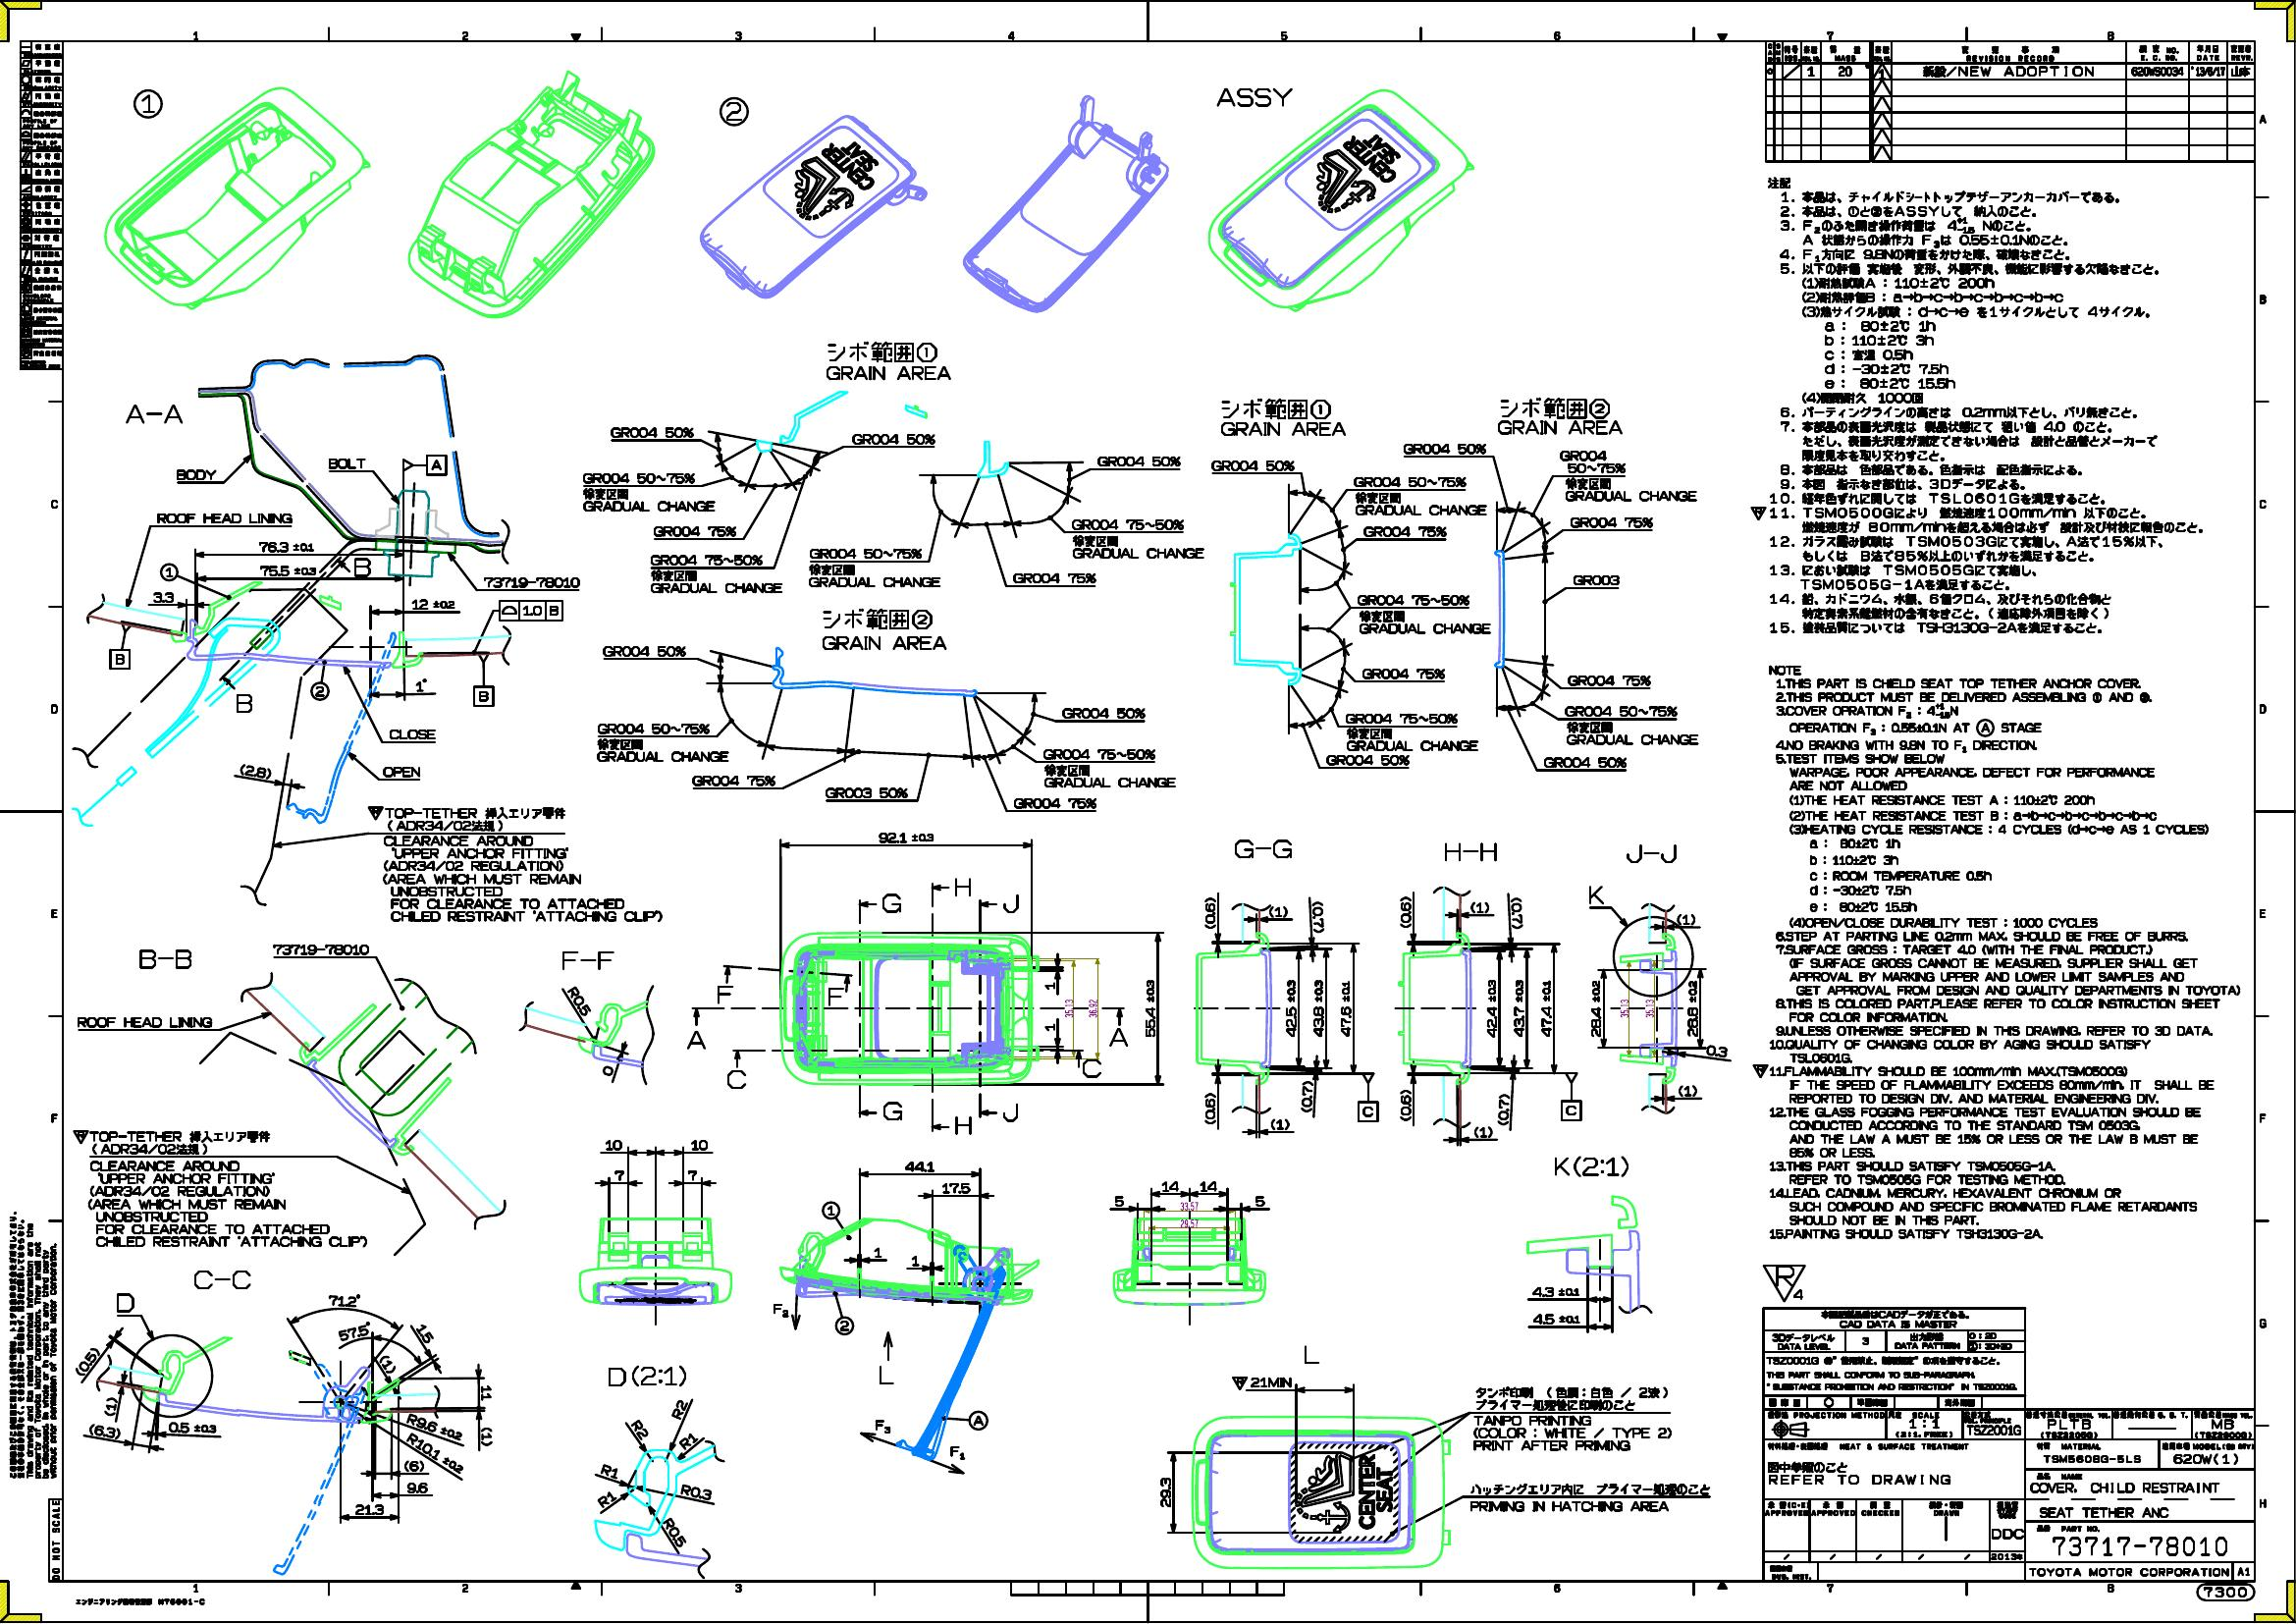anntotation_text: (1748, 176, 2242, 1243), (72, 1128, 367, 1248), (367, 805, 662, 923), (7, 1209, 58, 1480), (1472, 1385, 1672, 1454), (1469, 1483, 1711, 1513), (1558, 450, 1699, 501), (1356, 592, 1491, 634), (581, 471, 715, 513), (1563, 705, 1699, 745), (1042, 749, 1177, 789), (596, 722, 731, 763), (1072, 518, 1205, 559), (820, 608, 947, 650), (1353, 476, 1488, 515), (648, 554, 783, 592), (826, 339, 954, 380), (808, 548, 940, 587), (1219, 397, 1347, 436), (1346, 714, 1479, 750), (1497, 397, 1623, 434), (1762, 1262, 1806, 1302), (1555, 1155, 1628, 1178), (608, 1366, 687, 1387), (77, 1016, 213, 1028), (1216, 86, 1293, 107), (156, 513, 293, 524), (499, 599, 562, 620), (137, 947, 191, 970), (193, 1269, 251, 1290), (271, 944, 369, 956), (483, 576, 580, 589), (610, 425, 694, 439), (125, 404, 183, 424), (1233, 838, 1291, 858), (1444, 840, 1497, 861), (2194, 1584, 2256, 1601), (1360, 668, 1446, 680), (850, 432, 936, 445), (1542, 756, 1627, 768), (1569, 517, 1653, 529), (1325, 754, 1409, 766), (1363, 526, 1448, 538), (1210, 459, 1295, 471), (1061, 707, 1145, 719), (824, 786, 908, 798), (690, 773, 775, 786), (562, 951, 615, 970), (132, 88, 163, 120), (1625, 844, 1676, 863), (718, 97, 748, 127), (1567, 675, 1651, 685), (1096, 455, 1180, 466), (1012, 573, 1096, 584), (603, 645, 687, 656), (1404, 443, 1486, 453), (1014, 798, 1096, 808), (653, 526, 736, 536), (1231, 1376, 1291, 1390), (1572, 575, 1620, 585), (388, 729, 436, 740), (176, 468, 216, 480), (329, 457, 365, 469), (1358, 1100, 1379, 1121), (968, 1410, 989, 1429), (381, 766, 420, 777), (1108, 1026, 1128, 1048), (882, 893, 901, 914), (882, 1100, 903, 1120), (727, 1069, 747, 1090), (116, 1292, 135, 1313), (427, 455, 446, 475), (160, 562, 179, 582), (311, 682, 330, 701), (1562, 1100, 1581, 1120), (1082, 1058, 1101, 1077), (820, 1200, 840, 1220), (687, 1030, 706, 1049), (834, 1316, 854, 1336), (235, 692, 253, 714), (1588, 884, 1606, 905), (1303, 1345, 1321, 1364), (353, 557, 371, 576), (827, 986, 845, 1005), (954, 877, 971, 896), (954, 1116, 971, 1135), (1003, 893, 1019, 914), (111, 650, 128, 668), (474, 687, 492, 705), (878, 1366, 894, 1385), (717, 984, 733, 1004), (1003, 1102, 1017, 1123), (949, 1445, 964, 1461), (875, 1418, 891, 1434), (773, 1302, 789, 1318)
dimension_text: (402, 1446, 467, 1459), (1484, 979, 1497, 1037), (1312, 979, 1325, 1037), (1284, 979, 1296, 1037), (406, 1420, 464, 1432), (260, 564, 316, 576), (258, 541, 314, 554), (1686, 981, 1699, 1037), (1513, 979, 1525, 1035), (1339, 981, 1351, 1037), (878, 831, 933, 844), (169, 1420, 216, 1434), (1541, 979, 1551, 1037), (1145, 979, 1156, 1037), (1532, 1313, 1581, 1325), (1590, 981, 1600, 1037), (411, 598, 455, 610), (1532, 1287, 1579, 1297), (337, 1323, 372, 1338), (1398, 895, 1412, 928), (1398, 1090, 1412, 1121), (329, 1294, 360, 1308), (237, 765, 272, 777), (1203, 1091, 1216, 1125), (1312, 900, 1325, 933), (562, 995, 596, 1007), (70, 1355, 104, 1367), (88, 1425, 121, 1438), (1497, 1093, 1509, 1125), (1511, 896, 1523, 928), (1300, 1081, 1312, 1113), (1203, 896, 1216, 928), (680, 1485, 711, 1497), (1159, 1476, 1172, 1508), (905, 1160, 935, 1172), (659, 1527, 690, 1538), (942, 1183, 971, 1193), (1706, 1044, 1727, 1058), (355, 1503, 383, 1513), (406, 1482, 429, 1494), (480, 1427, 494, 1446), (153, 591, 174, 603), (415, 1327, 436, 1339), (629, 1424, 650, 1436), (1678, 1084, 1697, 1097), (1470, 902, 1490, 914), (1270, 1118, 1289, 1130), (1268, 905, 1288, 917), (678, 1434, 697, 1446), (669, 1403, 689, 1415), (597, 1492, 617, 1504), (100, 1401, 121, 1411), (690, 1139, 708, 1151), (604, 1139, 622, 1151), (601, 1464, 618, 1476), (1161, 1179, 1179, 1192), (1676, 914, 1695, 924), (1474, 1127, 1493, 1137), (1087, 998, 1098, 1018), (378, 1359, 397, 1369), (404, 1461, 423, 1471), (415, 677, 427, 692), (480, 1385, 492, 1401), (1200, 1179, 1216, 1192), (1620, 998, 1628, 1018), (1646, 998, 1655, 1018), (1065, 998, 1073, 1018), (1180, 1218, 1198, 1227), (1180, 1200, 1198, 1209), (687, 1169, 697, 1181), (613, 1169, 624, 1181), (1114, 1195, 1124, 1207), (1254, 1195, 1265, 1207), (603, 1065, 613, 1076), (1043, 981, 1056, 990), (873, 1246, 882, 1258), (912, 1255, 921, 1267), (1043, 1023, 1056, 1030)
object: (70, 353, 504, 826), (95, 1336, 439, 1575), (778, 1216, 1040, 1461), (406, 69, 655, 318), (246, 979, 502, 1218), (1207, 88, 1476, 313), (104, 86, 371, 309), (963, 93, 1170, 313), (699, 114, 928, 299), (1191, 1413, 1451, 1570), (778, 932, 1040, 1084), (755, 390, 1008, 480), (1397, 886, 1472, 1128), (1196, 902, 1272, 1114), (594, 1445, 715, 1568), (1112, 1216, 1267, 1306), (1525, 1193, 1641, 1313), (578, 1216, 733, 1304), (1618, 902, 1678, 1113), (1228, 533, 1302, 687), (771, 647, 978, 700), (523, 1000, 648, 1067), (1493, 550, 1505, 668)
title_block: (1764, 1308, 2256, 1580), (1765, 40, 2256, 162)
